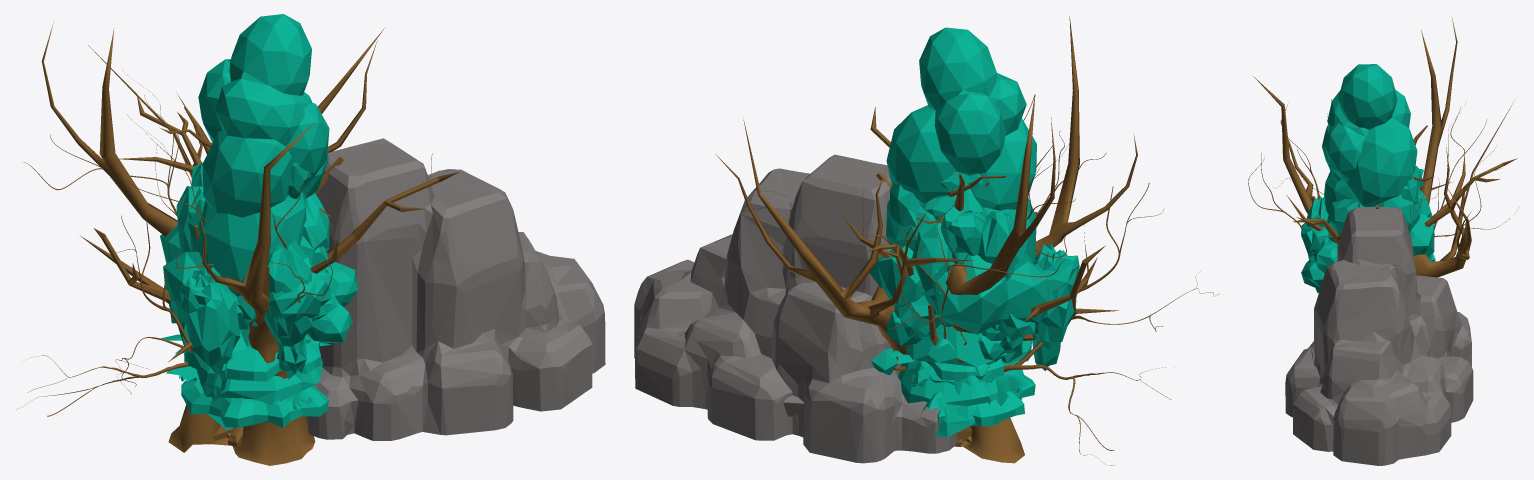
Rendered from NatureAssetsV3.fbx.
The picture shows the model from 3 angles, left to right: view 1: azimuth 30°, elevation 25°; view 2: azimuth 150°, elevation 25°; view 3: azimuth 270°, elevation 25°; orthographic projection. The views are drawn at different scales.
Visible parts, largest first — view 1: Rock, Tree_9, Dead_Tree_3, Tree_12, Tree_10, Dead_Tree_1, Tree_5, Dead_Tree_2, Tree_8, Tree_6, Tree_4, Tree_7 (+2 smaller); view 2: Rock, Tree_9, Dead_Tree_3, Tree_6, Tree_4, Tree_12, Tree_7, Dead_Tree_2, Tree_10, Dead_Tree_1, Tree_2, Tree_8 (+4 smaller); view 3: Rock, Tree_9, Dead_Tree_3, Dead_Tree_1, Tree_5, Tree_8, Dead_Tree_2, Tree_6, Tree_7, Tree_12.
Boxes of the visible parts, <box> form: Rock: <box>306,138,605,440</box>; Tree_9: <box>194,14,329,296</box>; Dead_Tree_3: <box>41,22,385,465</box>; Tree_12: <box>176,162,312,401</box>; Tree_10: <box>181,329,328,427</box>; Dead_Tree_1: <box>80,97,459,440</box>; Tree_5: <box>268,193,331,324</box>; Dead_Tree_2: <box>16,70,432,416</box>; Tree_8: <box>169,246,358,342</box>; Tree_6: <box>160,198,249,329</box>; Tree_4: <box>184,326,322,405</box>; Tree_7: <box>176,162,310,327</box>; Rock: <box>634,154,957,463</box>; Tree_9: <box>885,27,1036,264</box>; Dead_Tree_3: <box>715,16,1137,463</box>; Tree_6: <box>869,212,1048,386</box>; Tree_4: <box>898,172,1024,406</box>; Tree_12: <box>940,207,1079,370</box>; Tree_7: <box>890,181,1016,291</box>; Dead_Tree_2: <box>761,94,1218,465</box>; Tree_10: <box>901,340,1035,426</box>; Dead_Tree_1: <box>839,107,1118,452</box>; Tree_2: <box>890,337,1033,420</box>; Tree_8: <box>965,314,1035,442</box>; Rock: <box>1285,207,1473,465</box>; Tree_9: <box>1322,64,1420,231</box>; Dead_Tree_3: <box>1253,16,1514,277</box>; Dead_Tree_1: <box>1286,155,1517,244</box>; Tree_5: <box>1301,199,1435,261</box>; Tree_8: <box>1301,222,1338,288</box>; Dead_Tree_2: <box>1248,99,1515,269</box>; Tree_6: <box>1409,213,1434,257</box>; Tree_7: <box>1328,161,1431,217</box>; Tree_12: <box>1306,166,1423,292</box>.
Size of what is drawn, in the model's own units: 126 by 89.15 by 73.43.
